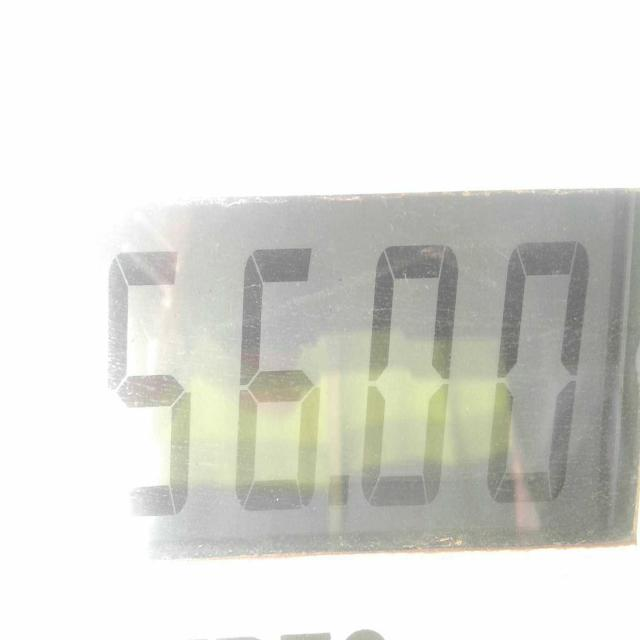.: (318, 456, 364, 538)
0: (480, 242, 601, 546), (343, 225, 464, 518)
5: (91, 242, 214, 548)
6: (227, 233, 333, 518)
